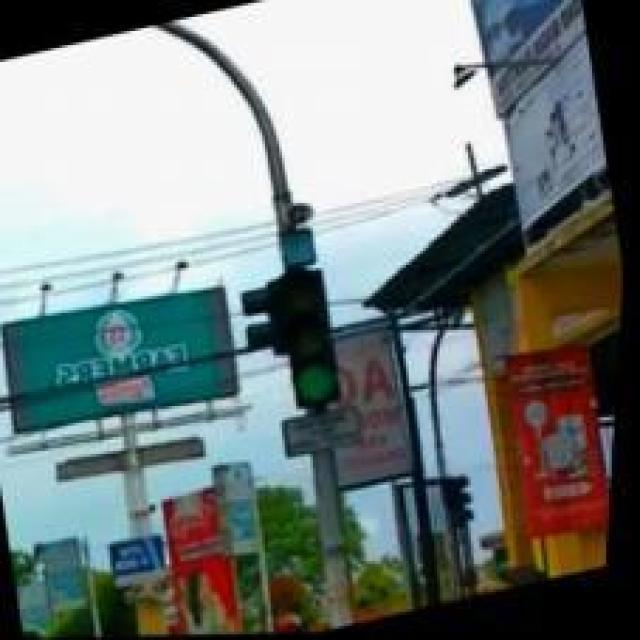Lampu Hijau: (278, 265, 342, 412)
